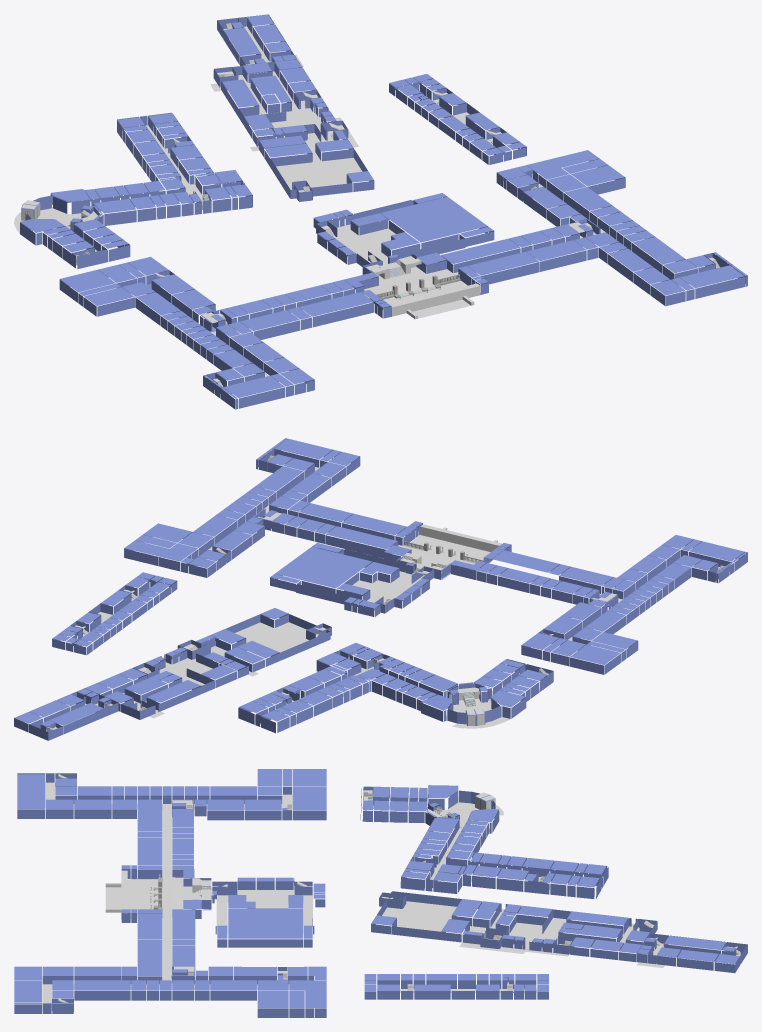
File: dstu_1.glb
3 renders of one model, top to bottom at view 1: azimuth 30°, elevation 25°; view 2: azimuth 150°, elevation 25°; view 3: azimuth 270°, elevation 25°, orthographic. The views are drawn at different scales.
Visible parts, largest first — view 1: 1, 7.1; view 2: 1, 7.1; view 3: 1, 7.1.
Boxes of the visible parts, box(x1,y1,x2,y2) form: 1: box(14, 74, 747, 409); 7.1: box(210, 14, 374, 201); 1: box(52, 438, 747, 733); 7.1: box(14, 608, 331, 740); 1: box(14, 769, 608, 1017); 7.1: box(371, 891, 747, 973).
Size of the model in its own units: 179 by 4.87 by 232.
